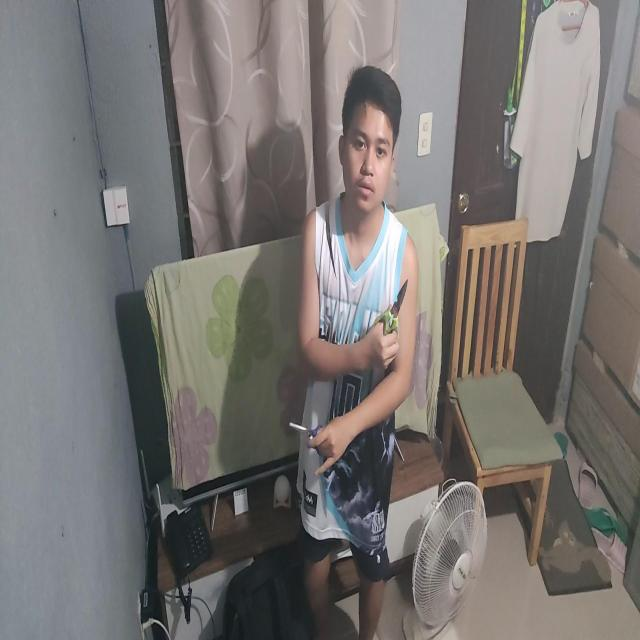scissor: (372, 278, 408, 346), (289, 422, 325, 456)
